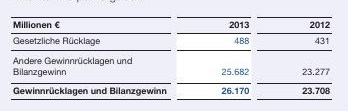table: (0, 0, 348, 111)
